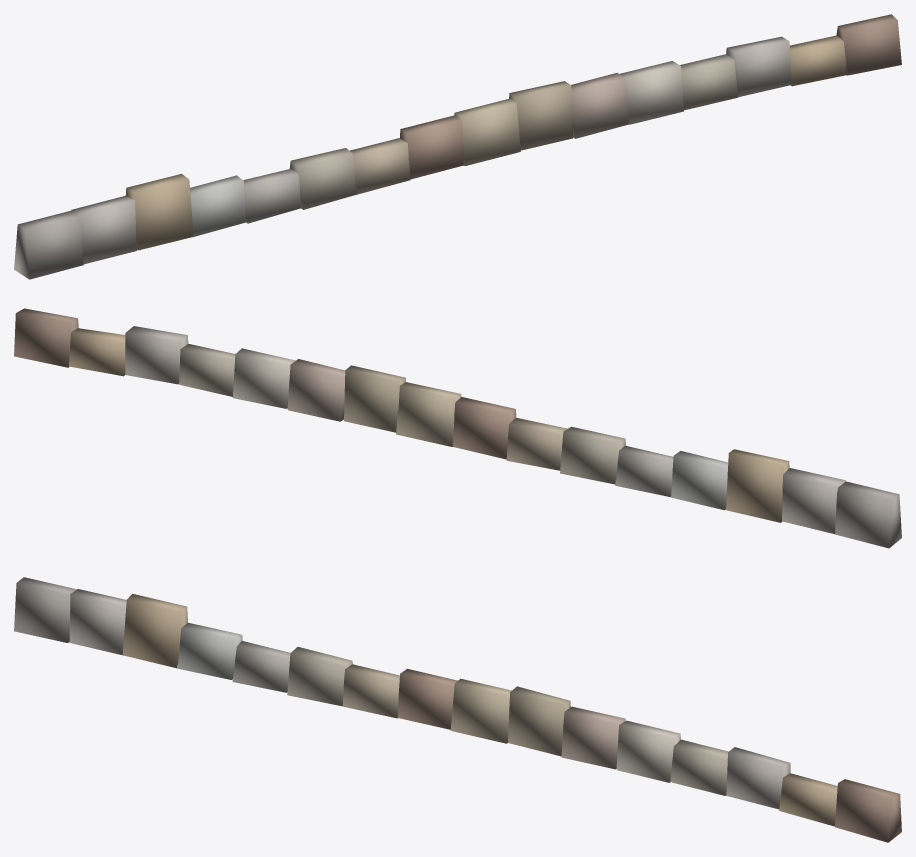
Rendered from farm_-9_-11_far.glb.
3 views of the same model, one above another, from view 1: azimuth 30°, elevation 25°; view 2: azimuth 150°, elevation 25°; view 3: azimuth 330°, elevation 25° (orthographic). The views are drawn at different scales.
Visible parts, largest first — view 1: geometry_0; view 2: geometry_0; view 3: geometry_0.
Part boxes in pixels (x1,y1,x2,y2): geometry_0: (14,14,901,279); geometry_0: (14,308,901,548); geometry_0: (14,577,901,842).
Bounding box in the file's own units: 25.48 × 1.83 × 1.34.
